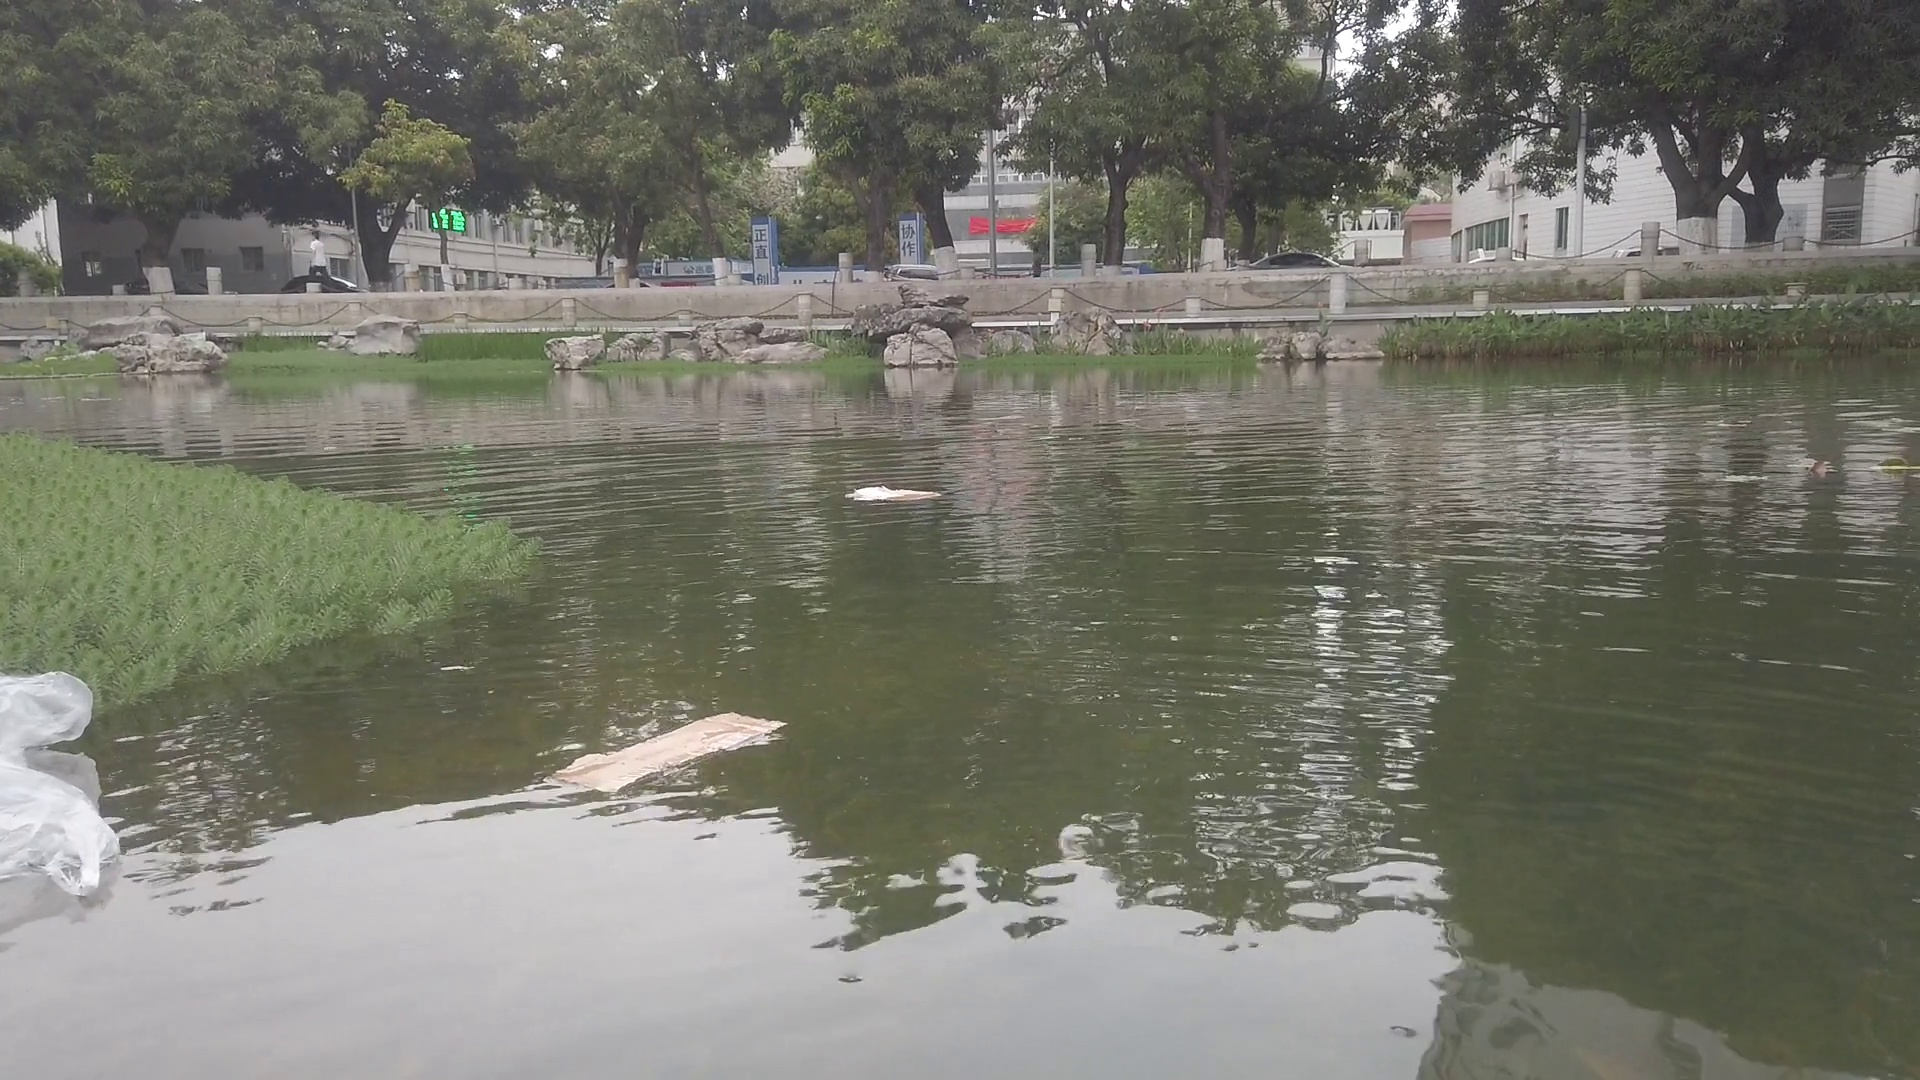paper: (556, 703, 786, 800), (853, 479, 939, 504)
plastic: (3, 762, 113, 887), (3, 673, 98, 753)
